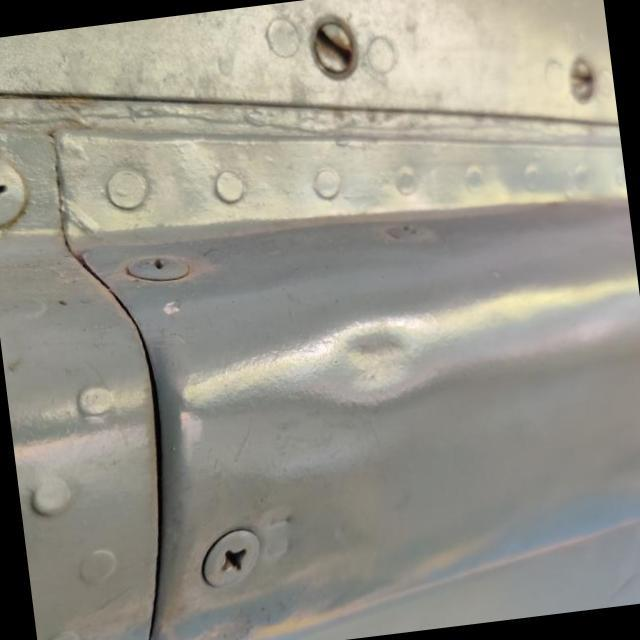Dent: (298, 302, 450, 433)
